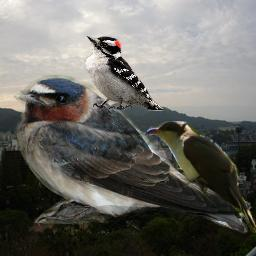Cuckoo: (143, 121, 256, 234)
Swallow: (10, 74, 253, 234)
Woodpecker: (84, 36, 163, 111)
